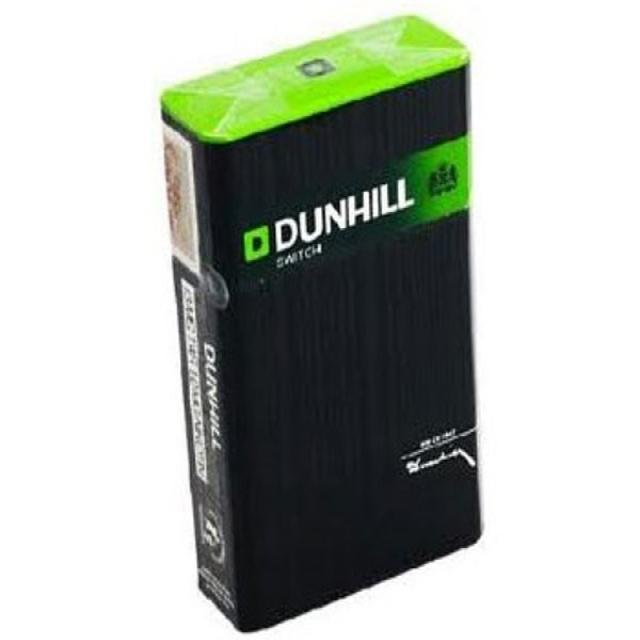dunhill: (154, 24, 492, 632)
